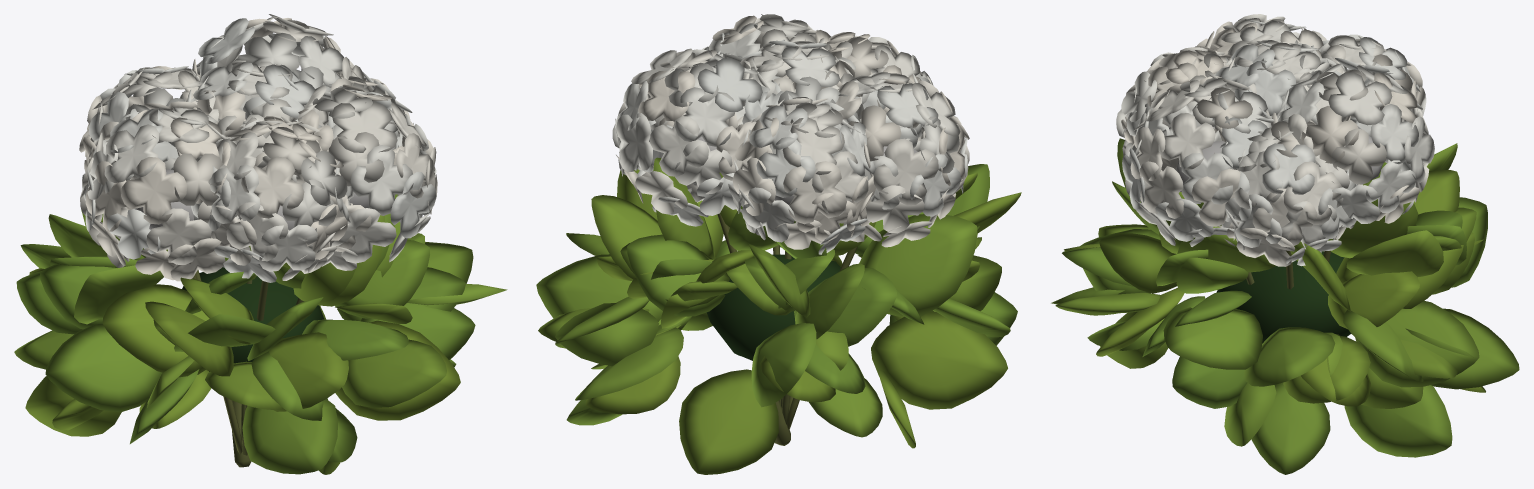
The model's file is bed_hydrangea_white.glb.
3 renders of one model, left to right at view 1: azimuth 30°, elevation 25°; view 2: azimuth 150°, elevation 25°; view 3: azimuth 270°, elevation 25°, orthographic. The views are drawn at different scales.
Visible parts, largest first — view 1: Sammel Pflanze, Sammel Blatt, Sammel Putz; view 2: Sammel Pflanze, Sammel Blatt, Sammel Putz; view 3: Sammel Pflanze, Sammel Blatt.
Part boxes in pixels (<box>): Sammel Pflanze: <box>14,14,507,474</box>; Sammel Blatt: <box>182,267,324,371</box>; Sammel Putz: <box>192,269,304,467</box>; Sammel Pflanze: <box>536,14,1021,474</box>; Sammel Blatt: <box>706,254,840,360</box>; Sammel Putz: <box>717,213,857,445</box>; Sammel Pflanze: <box>1051,14,1519,474</box>; Sammel Blatt: <box>1216,251,1351,343</box>.
Bounding box in the file's own units: 0.8017 × 0.7111 × 0.7811.
